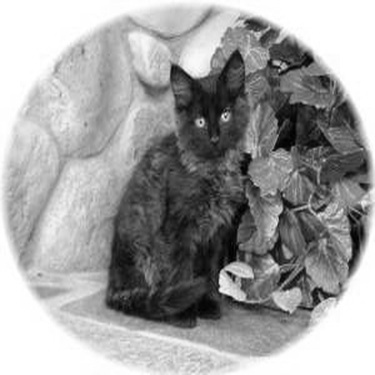cat: (93, 47, 247, 315)
